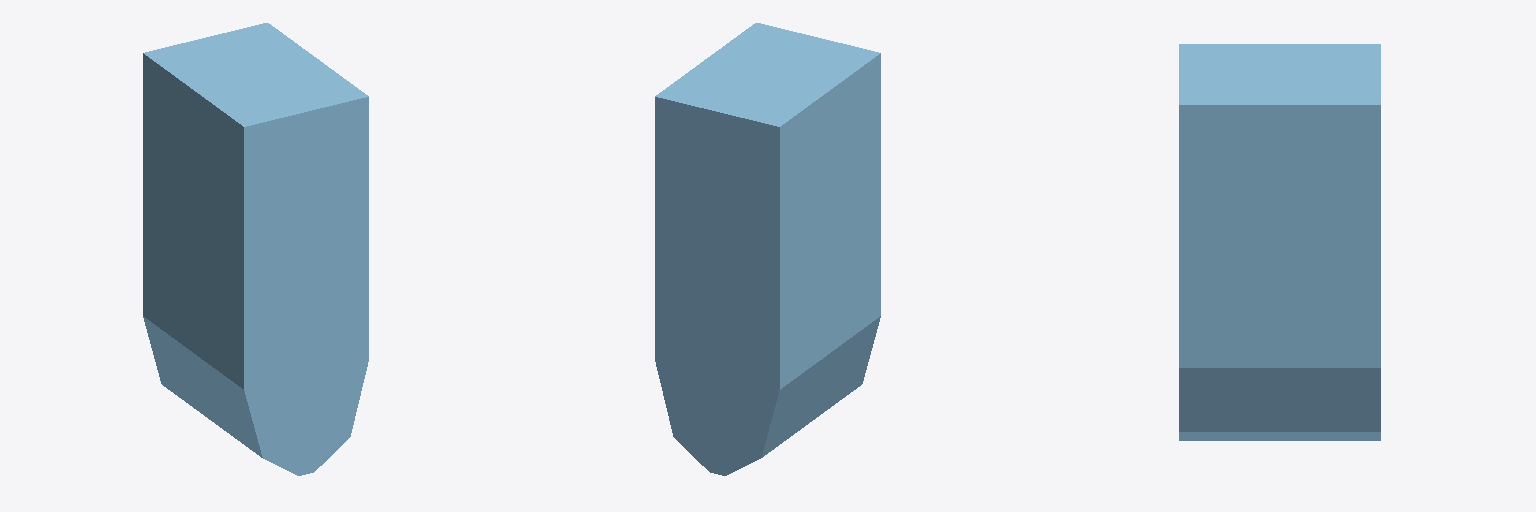
File: paddle.obj
The picture shows the model from 3 angles: view 1: azimuth 30°, elevation 25°; view 2: azimuth 150°, elevation 25°; view 3: azimuth 270°, elevation 25°; orthographic projection.
Bounding box in the file's own units: 0.057 × 0.1579 × 0.08.